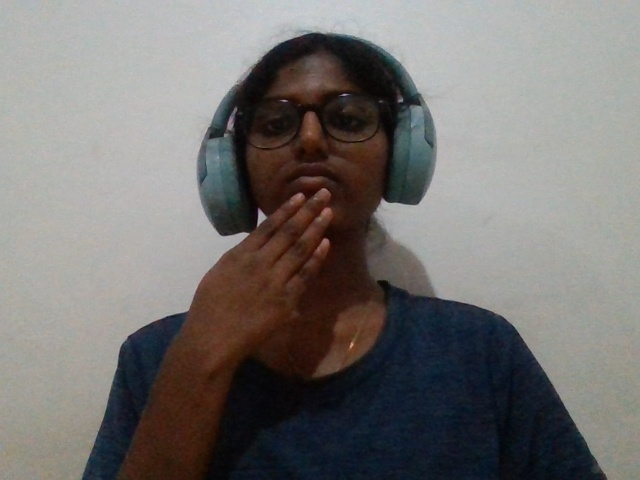Thanks: (156, 159, 413, 428)
